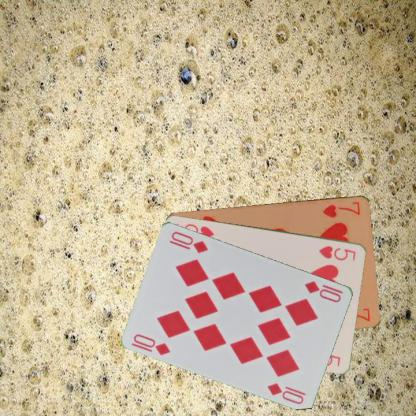10d: (302, 278, 343, 304), (131, 331, 172, 357)
5h: (317, 242, 357, 262)
7h: (320, 199, 362, 218)
